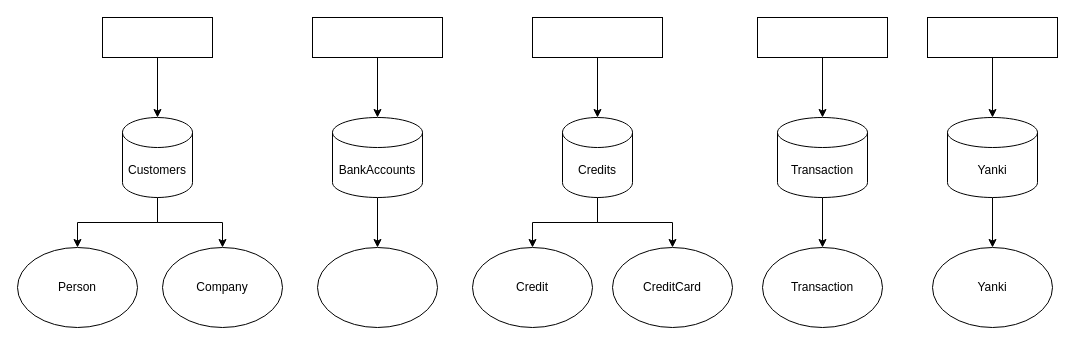
The diagram is 1075 pixels wide and 345 high, and some of its shapes have lost their labels. Here are the shapes that lost their labels. From the top down, the box of each, then its label:
(102, 16, 212, 58): MS-CUSTOMERS
(312, 16, 442, 58): MS-BANKACCOUNTS
(532, 16, 662, 58): MS-CREDITS
(756, 16, 888, 58): MS-TRANSACTION
(926, 16, 1058, 58): MS-YANKI
(316, 246, 438, 328): Account
